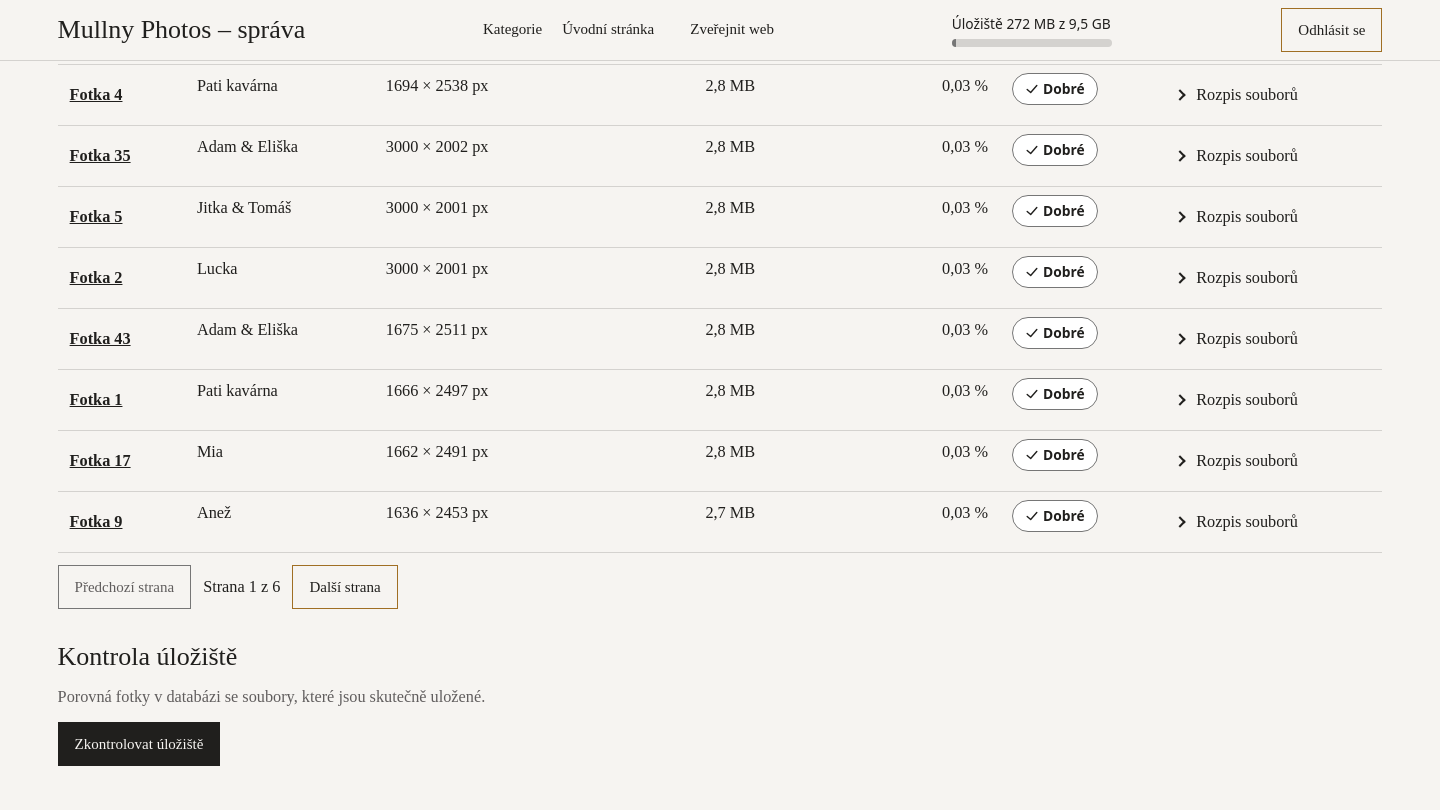
Scenario: storage screen: check › reports orphans, missing objects, size mismatches and unknown keys in plain Czech; missing and mismatch rows have no action
This screenshot has width=1440, height=810.
(page scrolled)
Step 1. Click the button "Zkontrolovat úložiště" → click(139, 744), box [58, 722, 220, 766]
(page scrolled)
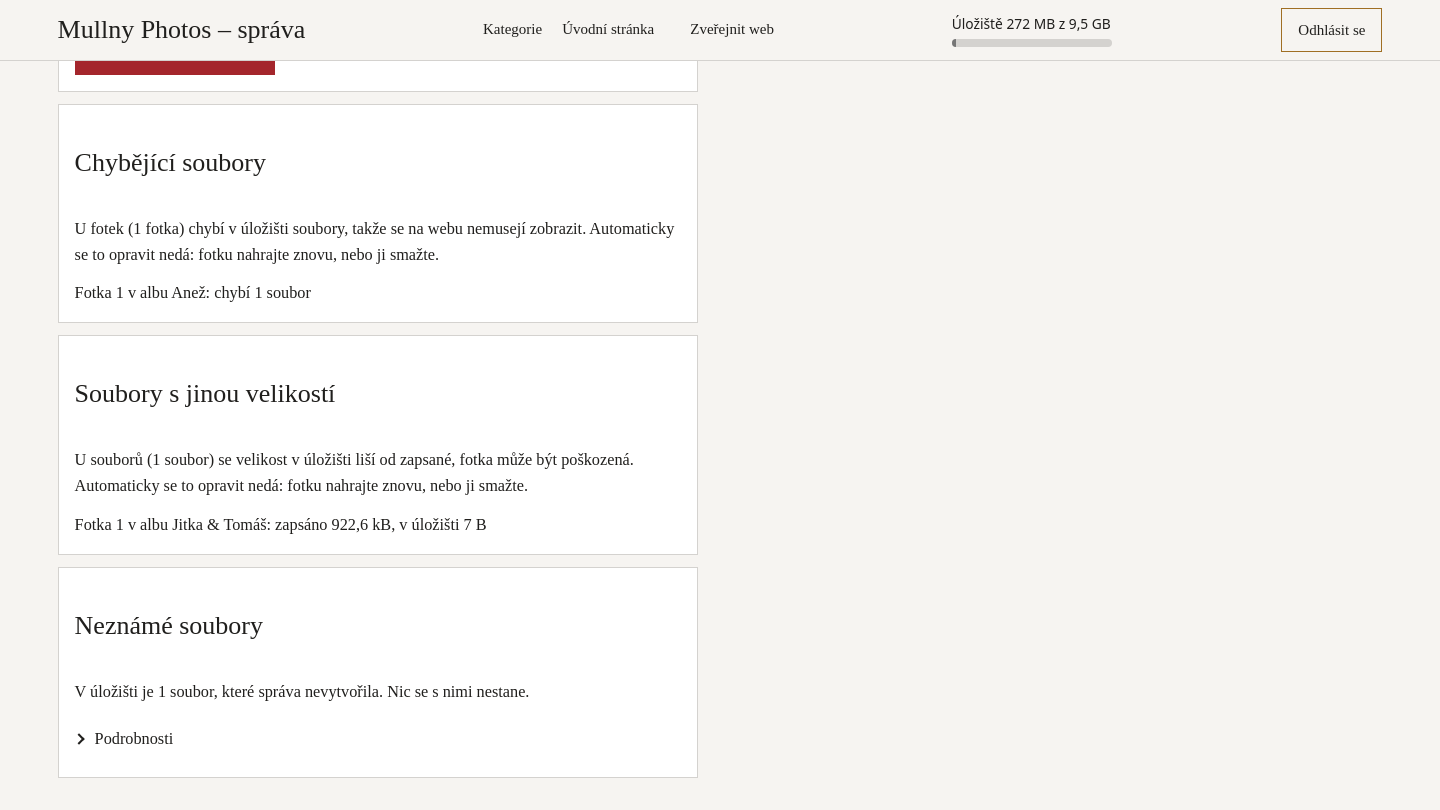
Now the element that starts with "Chybějící soubory" shows "Automaticky se to opravit nedá", box [75, 219, 674, 264]
Now the list item "Fotka 1 v albu Anež: chybí 1 soubor" is shown, box [75, 280, 311, 306]
Now the element that starts with "Neznámé soubory" shows "1 soubor", box [75, 682, 529, 701]
